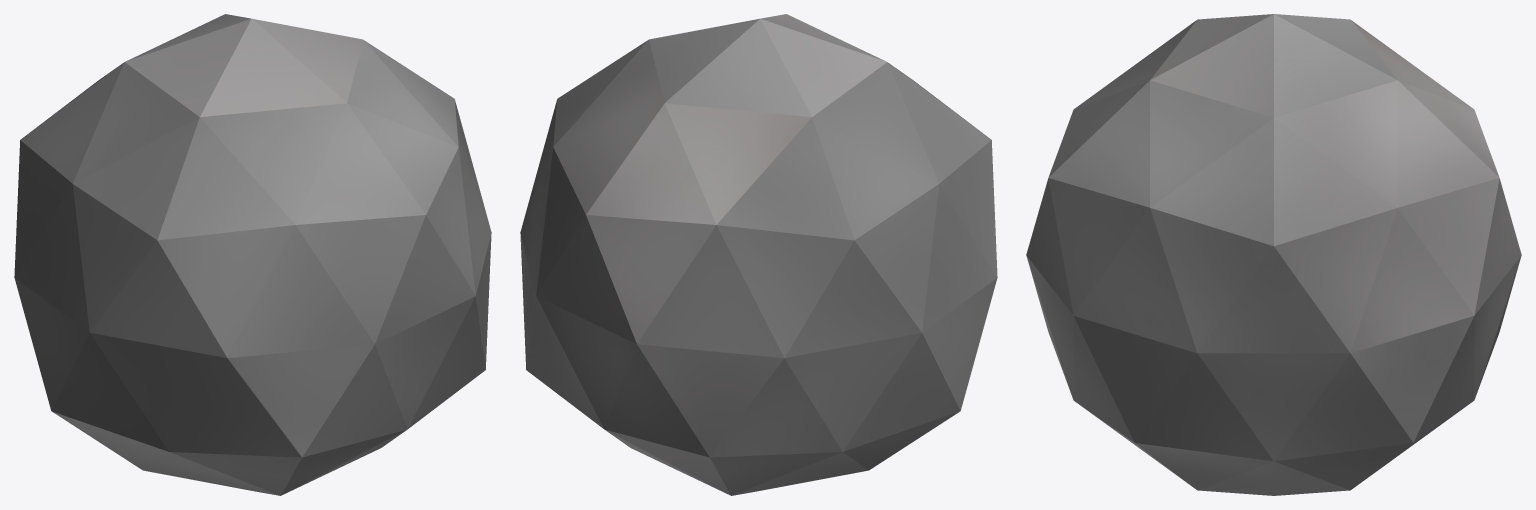
The model's file is mercury.fbx.
3 views of the same model, side by side, from view 1: azimuth 30°, elevation 25°; view 2: azimuth 150°, elevation 25°; view 3: azimuth 270°, elevation 25° (orthographic).
Visible parts, largest first — view 1: pSolid1; view 2: pSolid1; view 3: pSolid1.
Part boxes in pixels (box(x1,y1,x2,y2)): pSolid1: box(14, 14, 491, 495); pSolid1: box(520, 14, 997, 495); pSolid1: box(1026, 14, 1521, 495).
Bounding box in the file's own units: 16.52 × 18.53 × 17.3.
